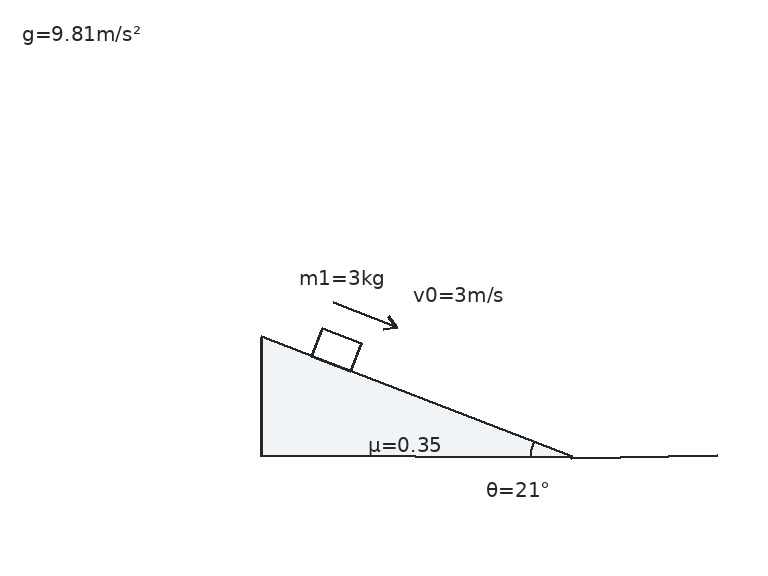block: (309, 326, 363, 373)
ramp: (259, 335, 573, 458)
